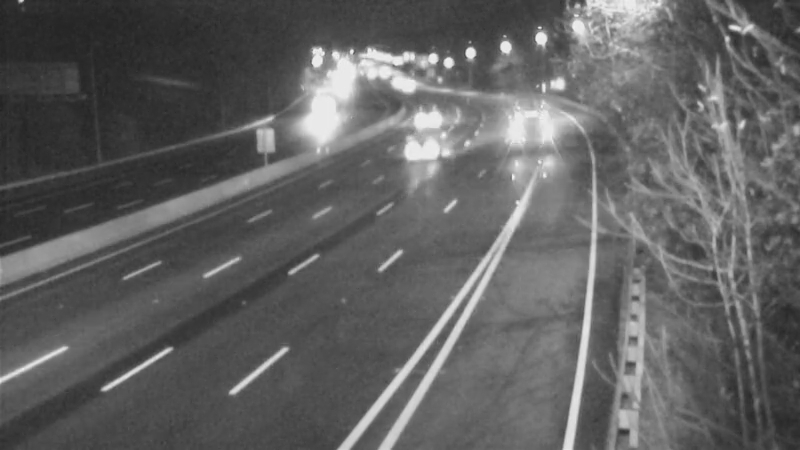vehicle: (367, 59, 417, 109), (380, 60, 430, 110), (500, 103, 550, 153), (405, 89, 455, 139), (405, 123, 455, 173), (292, 92, 342, 142)
